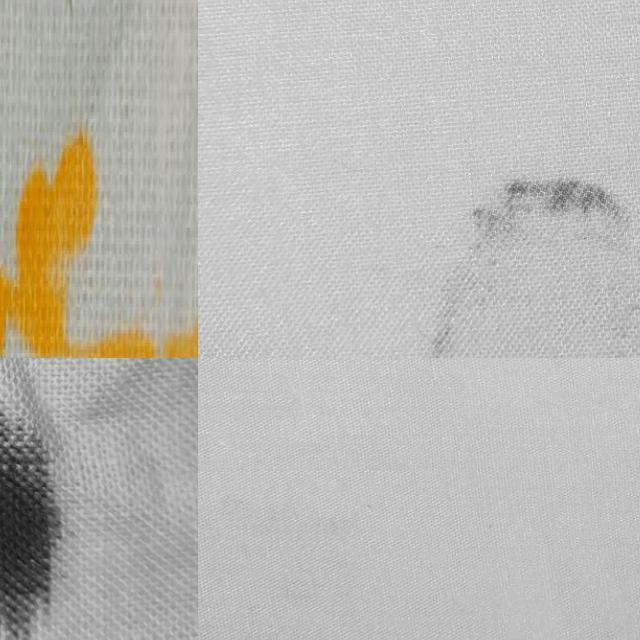Hole: (0, 85, 198, 358), (396, 156, 640, 358), (0, 396, 71, 640)
